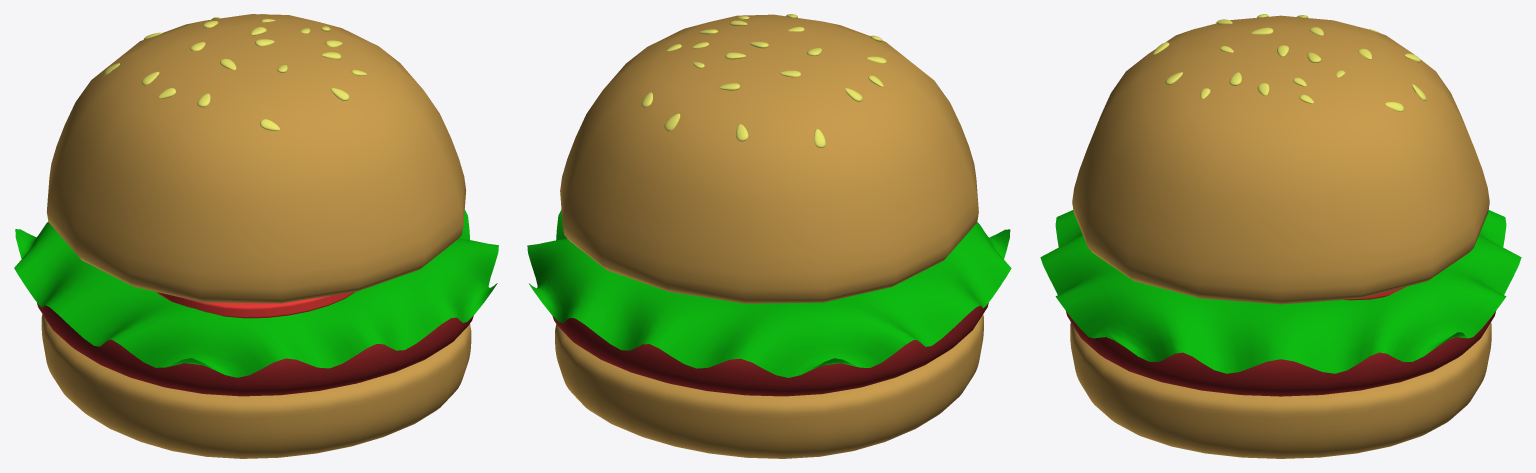
The model's file is hamburguesa.glb.
3 renders of one model, left to right at view 1: azimuth 30°, elevation 25°; view 2: azimuth 150°, elevation 25°; view 3: azimuth 270°, elevation 25°, orthographic.
Visible parts, largest first — view 1: pan2, lechuga, pan1, carne, jitomate, ajonjoli; view 2: pan2, lechuga, pan1, carne, ajonjoli; view 3: pan2, lechuga, pan1, carne, ajonjoli.
Boxes of the visible parts, box(x1,y1,x2,y2) form: pan2: box(46, 14, 466, 303); lechuga: box(14, 209, 498, 377); pan1: box(41, 314, 471, 458); carne: box(37, 303, 473, 396); jitomate: box(156, 292, 354, 318); ajonjoli: box(104, 14, 367, 130); pan2: box(560, 14, 978, 303); lechuga: box(527, 210, 1011, 377); pan1: box(555, 314, 983, 458); carne: box(552, 303, 988, 396); ajonjoli: box(641, 14, 886, 147); pan2: box(1072, 15, 1489, 304); lechuga: box(1040, 210, 1521, 373); pan1: box(1070, 322, 1491, 458); carne: box(1066, 311, 1495, 396); ajonjoli: box(1153, 14, 1426, 111).
Size of the model in its own units: 2.08 by 1.68 by 2.09.
